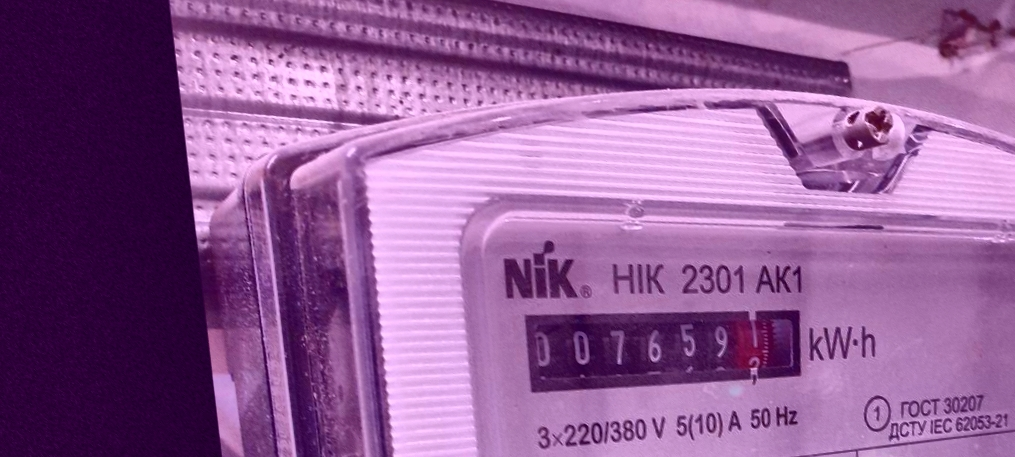0: (566, 324, 595, 367), (527, 325, 555, 369)
1: (743, 316, 764, 351)
5: (675, 319, 699, 359)
6: (640, 324, 666, 365)
7: (605, 325, 629, 367)
9: (710, 321, 731, 360)
screen: (511, 273, 816, 425)
